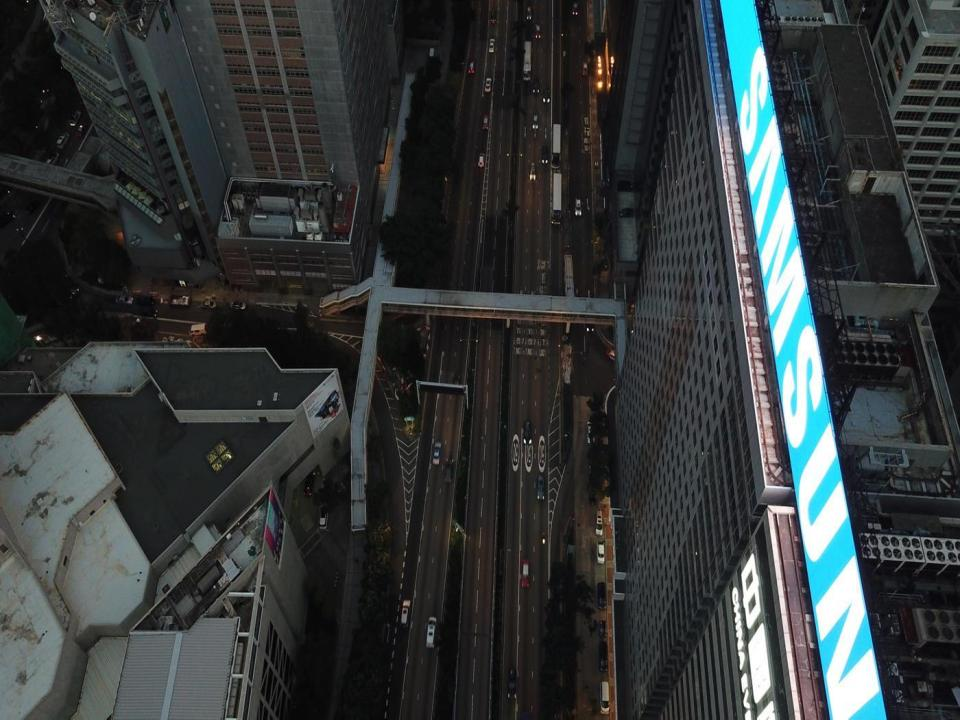car: (61, 277, 80, 296), (400, 599, 410, 627), (304, 471, 315, 496), (523, 419, 533, 445), (508, 669, 516, 699), (522, 559, 530, 587), (596, 541, 605, 564), (586, 307, 594, 332), (445, 459, 454, 481), (136, 296, 155, 306), (433, 441, 441, 464), (586, 420, 594, 443), (588, 485, 597, 505), (537, 475, 544, 500), (115, 296, 134, 305), (76, 123, 89, 136), (45, 154, 59, 166), (574, 198, 582, 215), (599, 621, 607, 638), (200, 300, 216, 308), (532, 78, 540, 94), (529, 162, 536, 179), (542, 146, 548, 164), (484, 78, 492, 91), (467, 59, 474, 73), (535, 24, 542, 38), (532, 114, 538, 130), (543, 87, 549, 103), (526, 5, 532, 21), (489, 38, 495, 53), (582, 61, 588, 76), (490, 10, 496, 23), (573, 1, 578, 15)
truck: (551, 172, 562, 224), (552, 123, 560, 168), (524, 41, 532, 81)
van: (600, 682, 610, 714), (426, 617, 436, 648), (598, 582, 607, 609), (319, 504, 328, 529), (600, 642, 608, 670), (56, 132, 69, 149), (594, 511, 602, 536), (26, 199, 40, 213), (230, 300, 246, 310), (71, 111, 81, 125), (482, 114, 489, 130), (477, 154, 485, 167)
